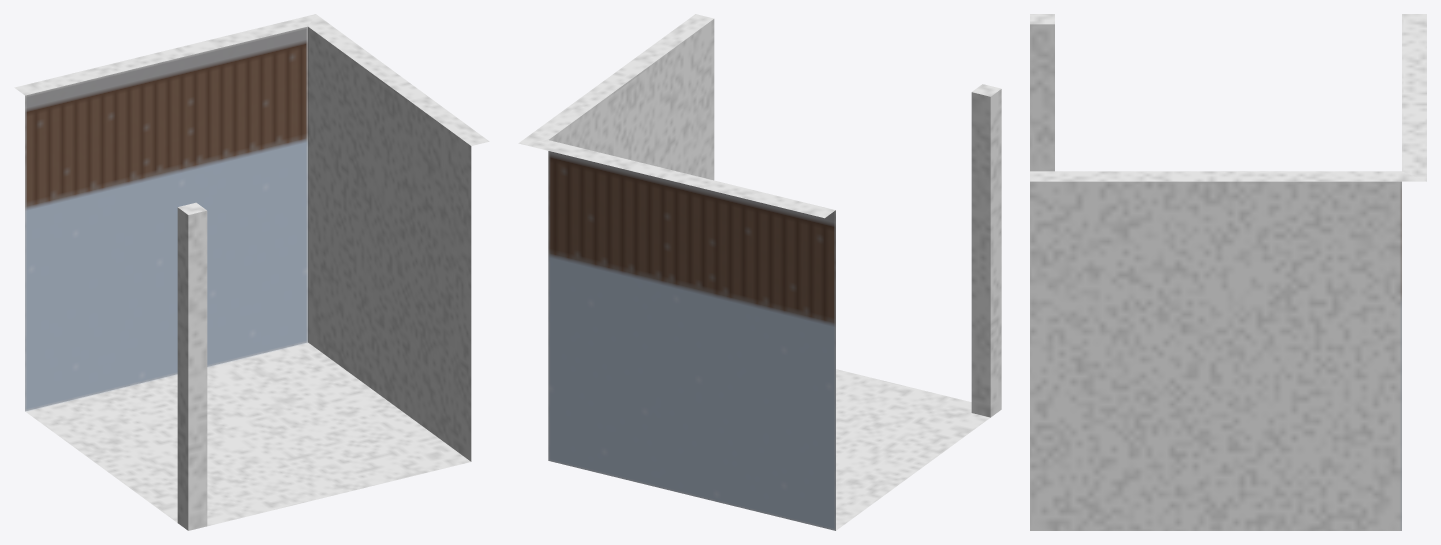
Rendered from hallWideCorner.fbx.
3 renders of one model, left to right at view 1: azimuth 30°, elevation 25°; view 2: azimuth 150°, elevation 25°; view 3: azimuth 270°, elevation 25°, orthographic. The views are drawn at different scales.
Parts seen in each view (by area): view 1: WideHallCorner2; view 2: WideHallCorner2; view 3: WideHallCorner2.
Boxes of the visible parts, x1,y1,x2,y2 form: WideHallCorner2: (14,14,489,530); WideHallCorner2: (518,14,1001,530); WideHallCorner2: (1030,14,1426,530).
Size of the model in its own units: 4 by 4 by 4.
